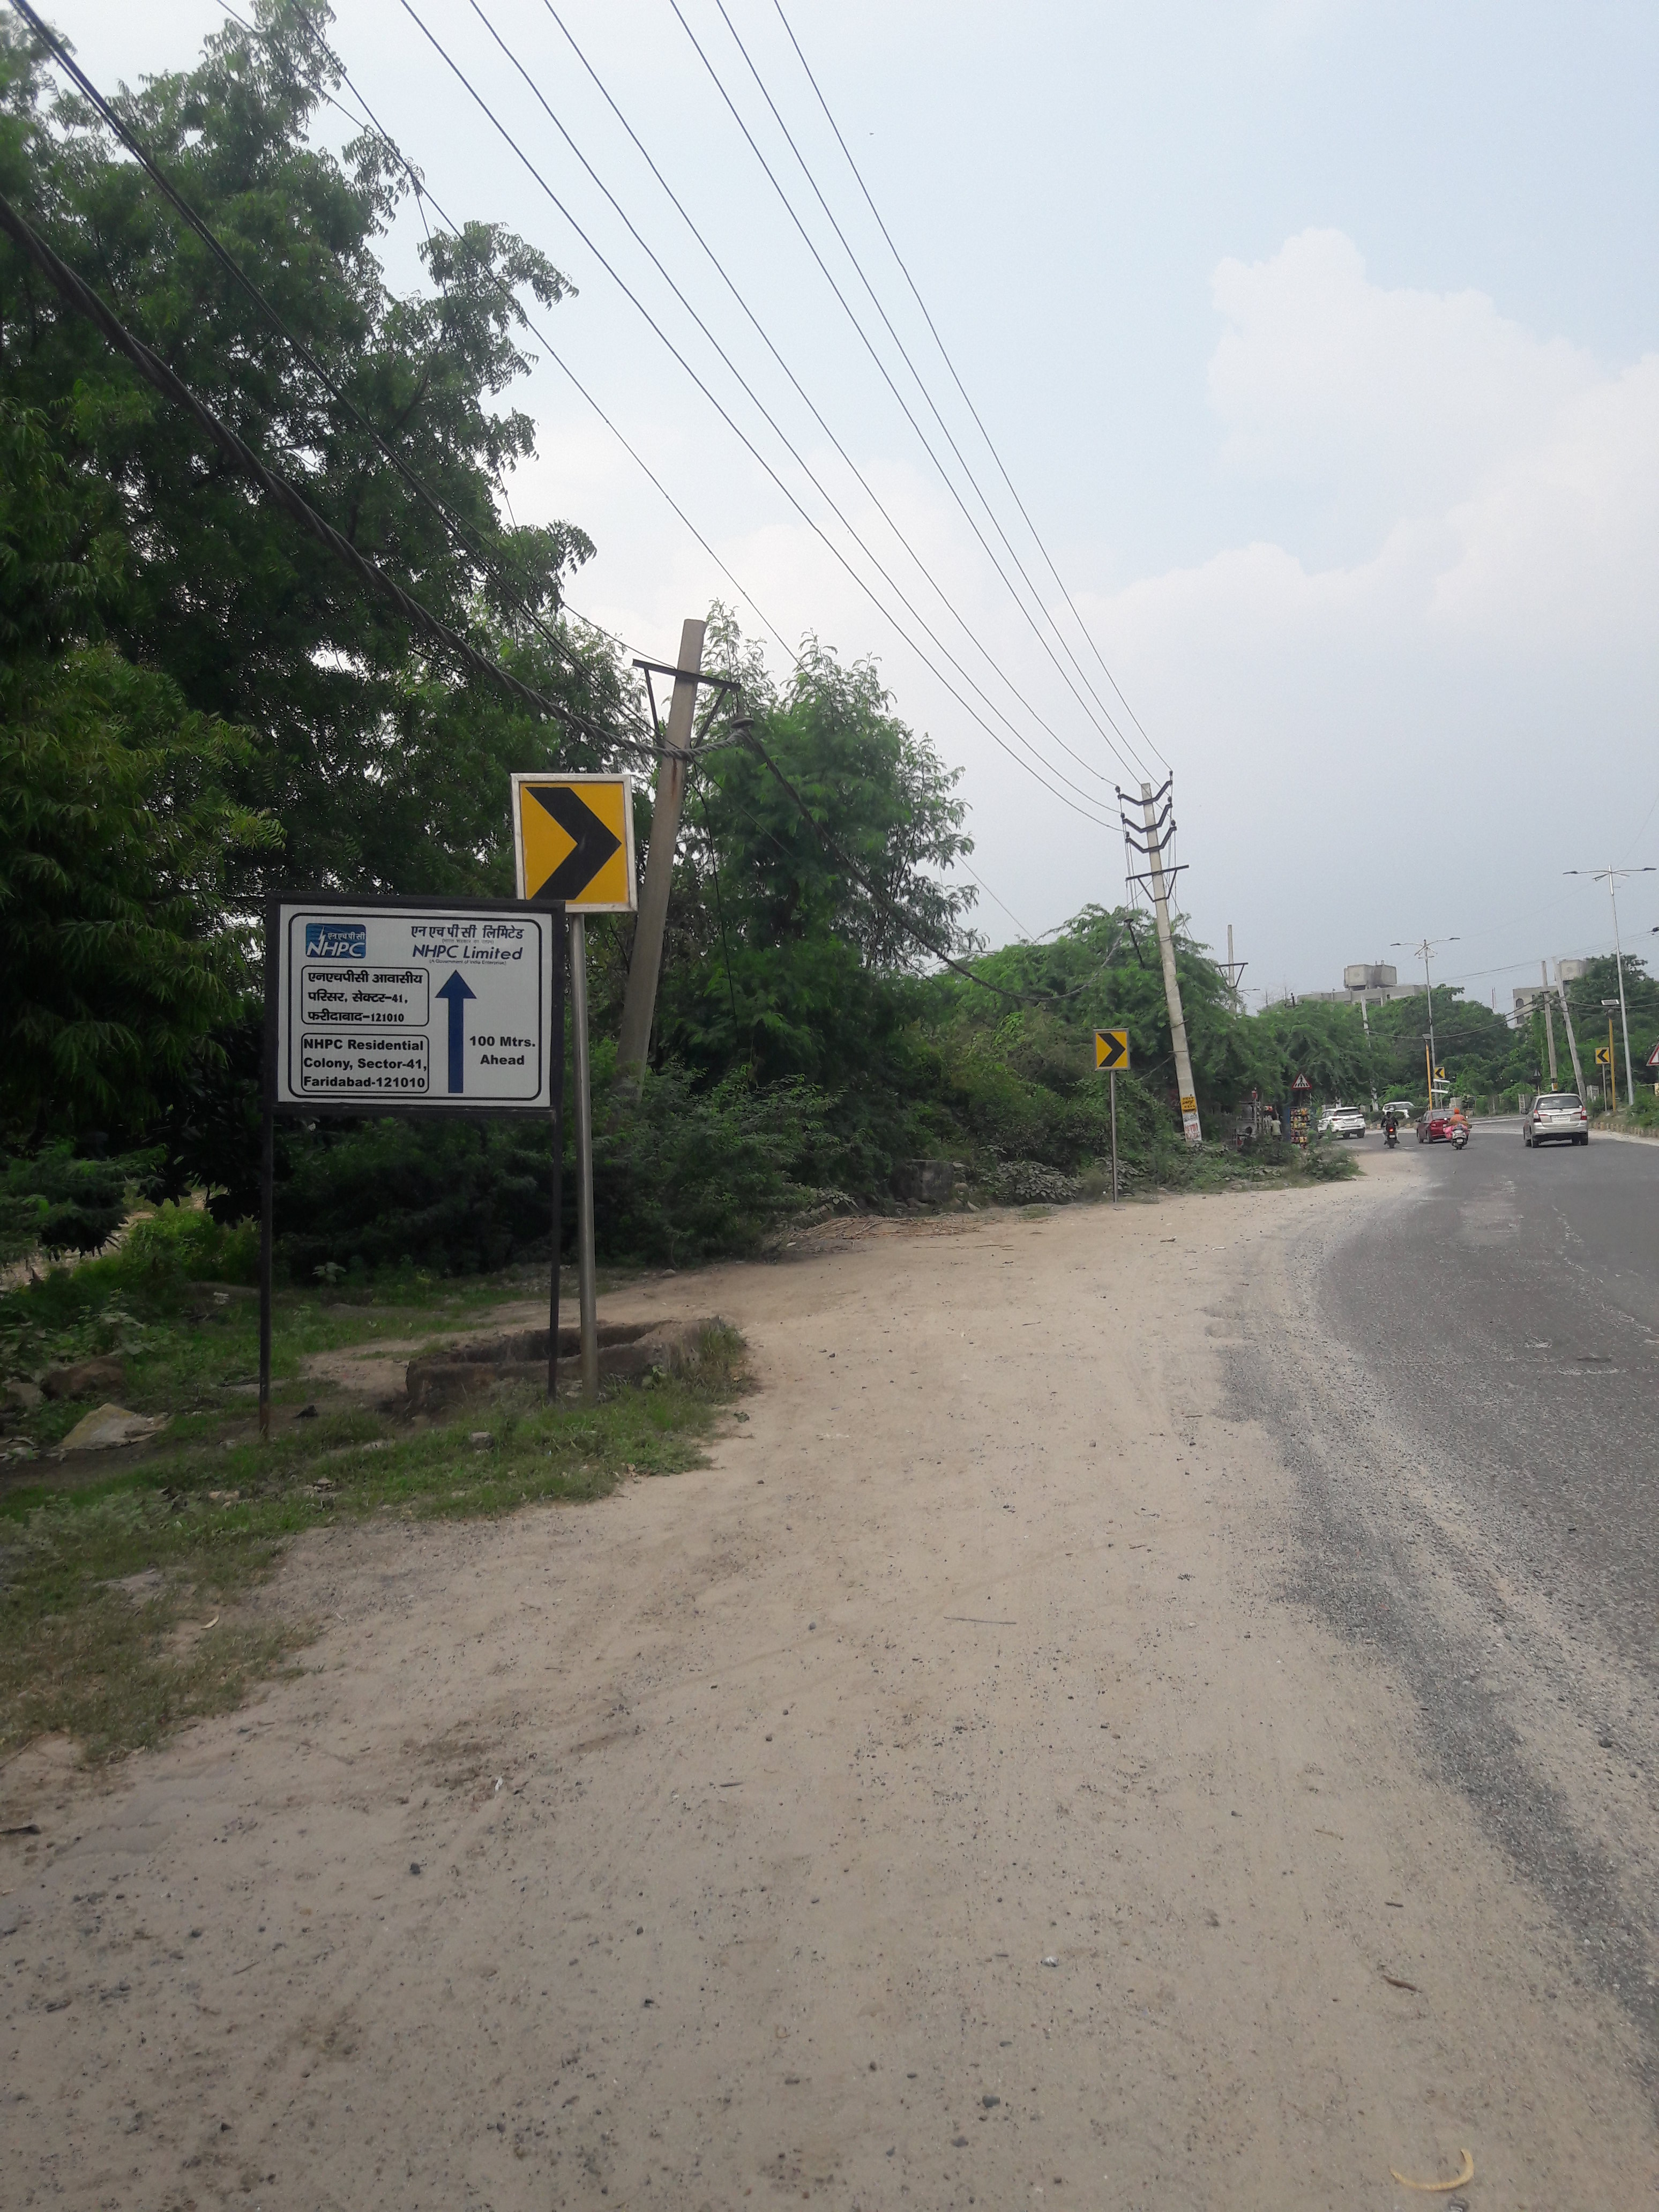traffic_sign: (512, 773, 636, 914), (1094, 1028, 1131, 1071), (1645, 1040, 1659, 1068), (1293, 1073, 1310, 1089), (1595, 1047, 1610, 1064), (1434, 1066, 1446, 1080), (1607, 1007, 1617, 1019)
